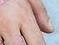plaque psoriasis: (0, 0, 12, 21)
